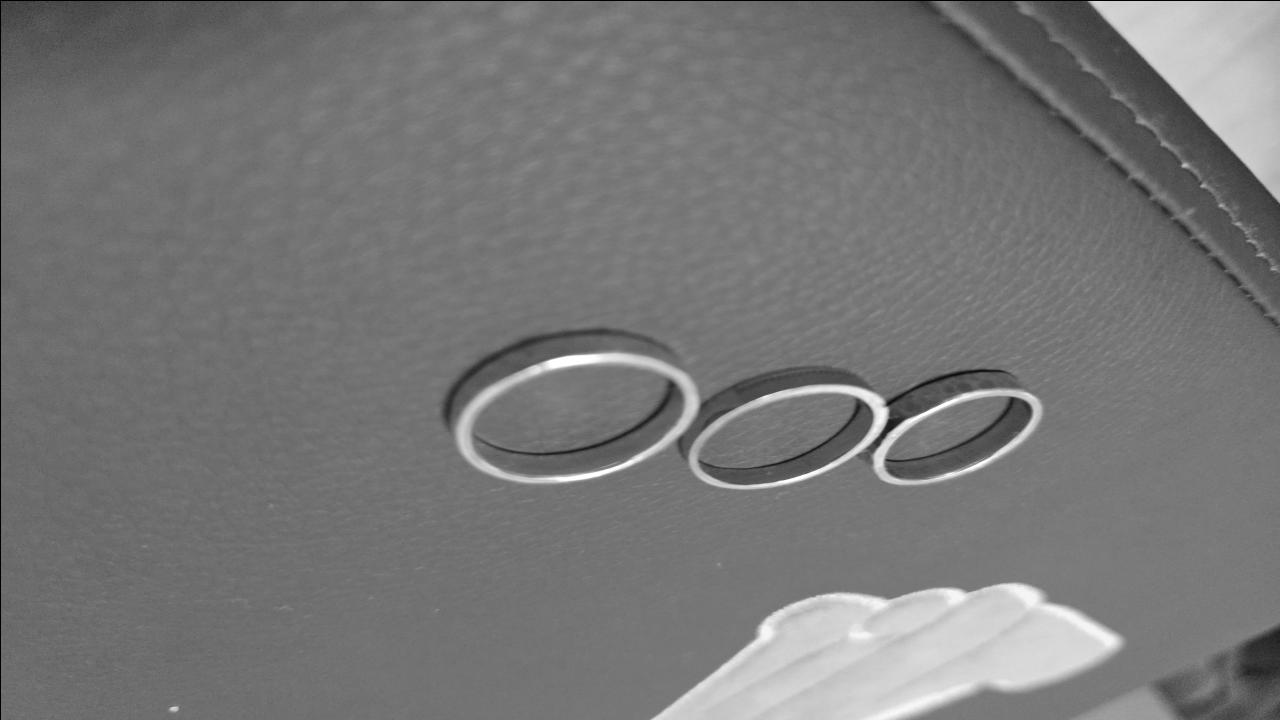ring: (440, 332, 696, 487), (677, 368, 894, 492), (860, 369, 1046, 487)
